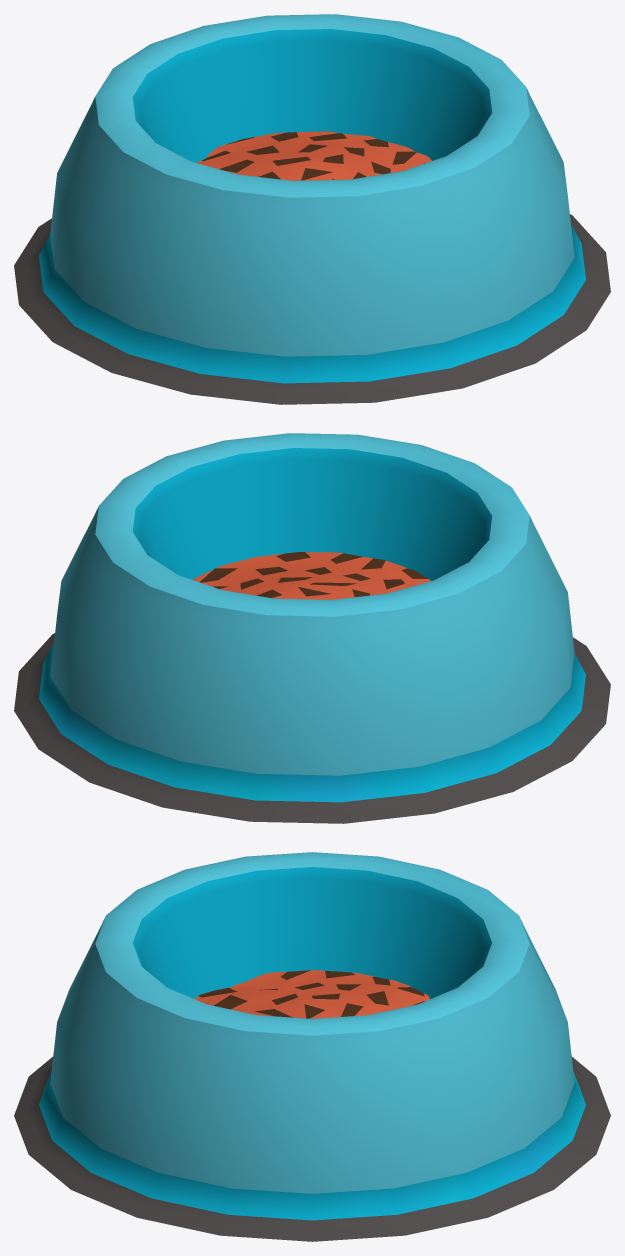
Rendered from dog_food_bowl_1.fbx.
3 views of the same model, one above another, from view 1: azimuth 30°, elevation 25°; view 2: azimuth 150°, elevation 25°; view 3: azimuth 270°, elevation 25° (orthographic).
Parts seen in each view (by area): view 1: pDisc16; view 2: pDisc16; view 3: pDisc16.
Part boxes in pixels (bbox=[...]): pDisc16: bbox=[14, 14, 610, 404]; pDisc16: bbox=[14, 433, 610, 823]; pDisc16: bbox=[14, 852, 610, 1241].
Size of the model in its own units: 59.94 by 22.51 by 59.94.
Materials: 1 (1 with a texture image).
